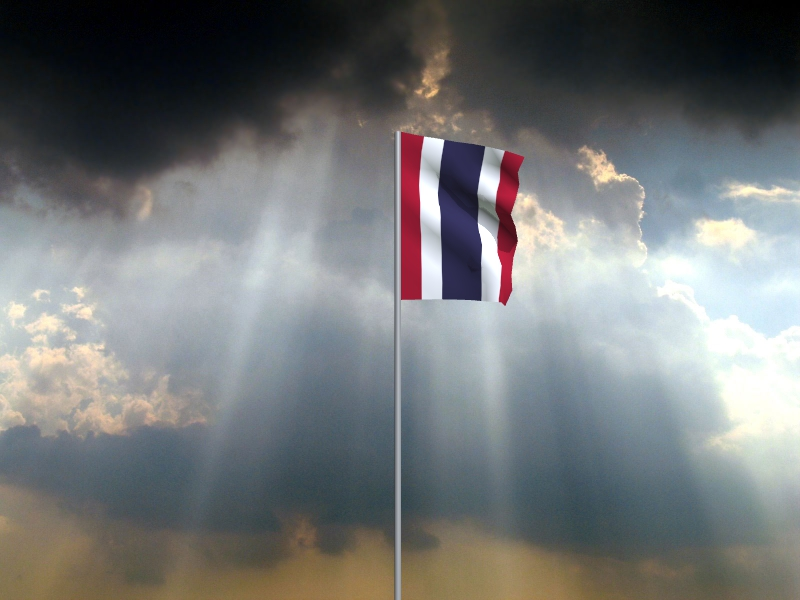th: (401, 132, 526, 308)
